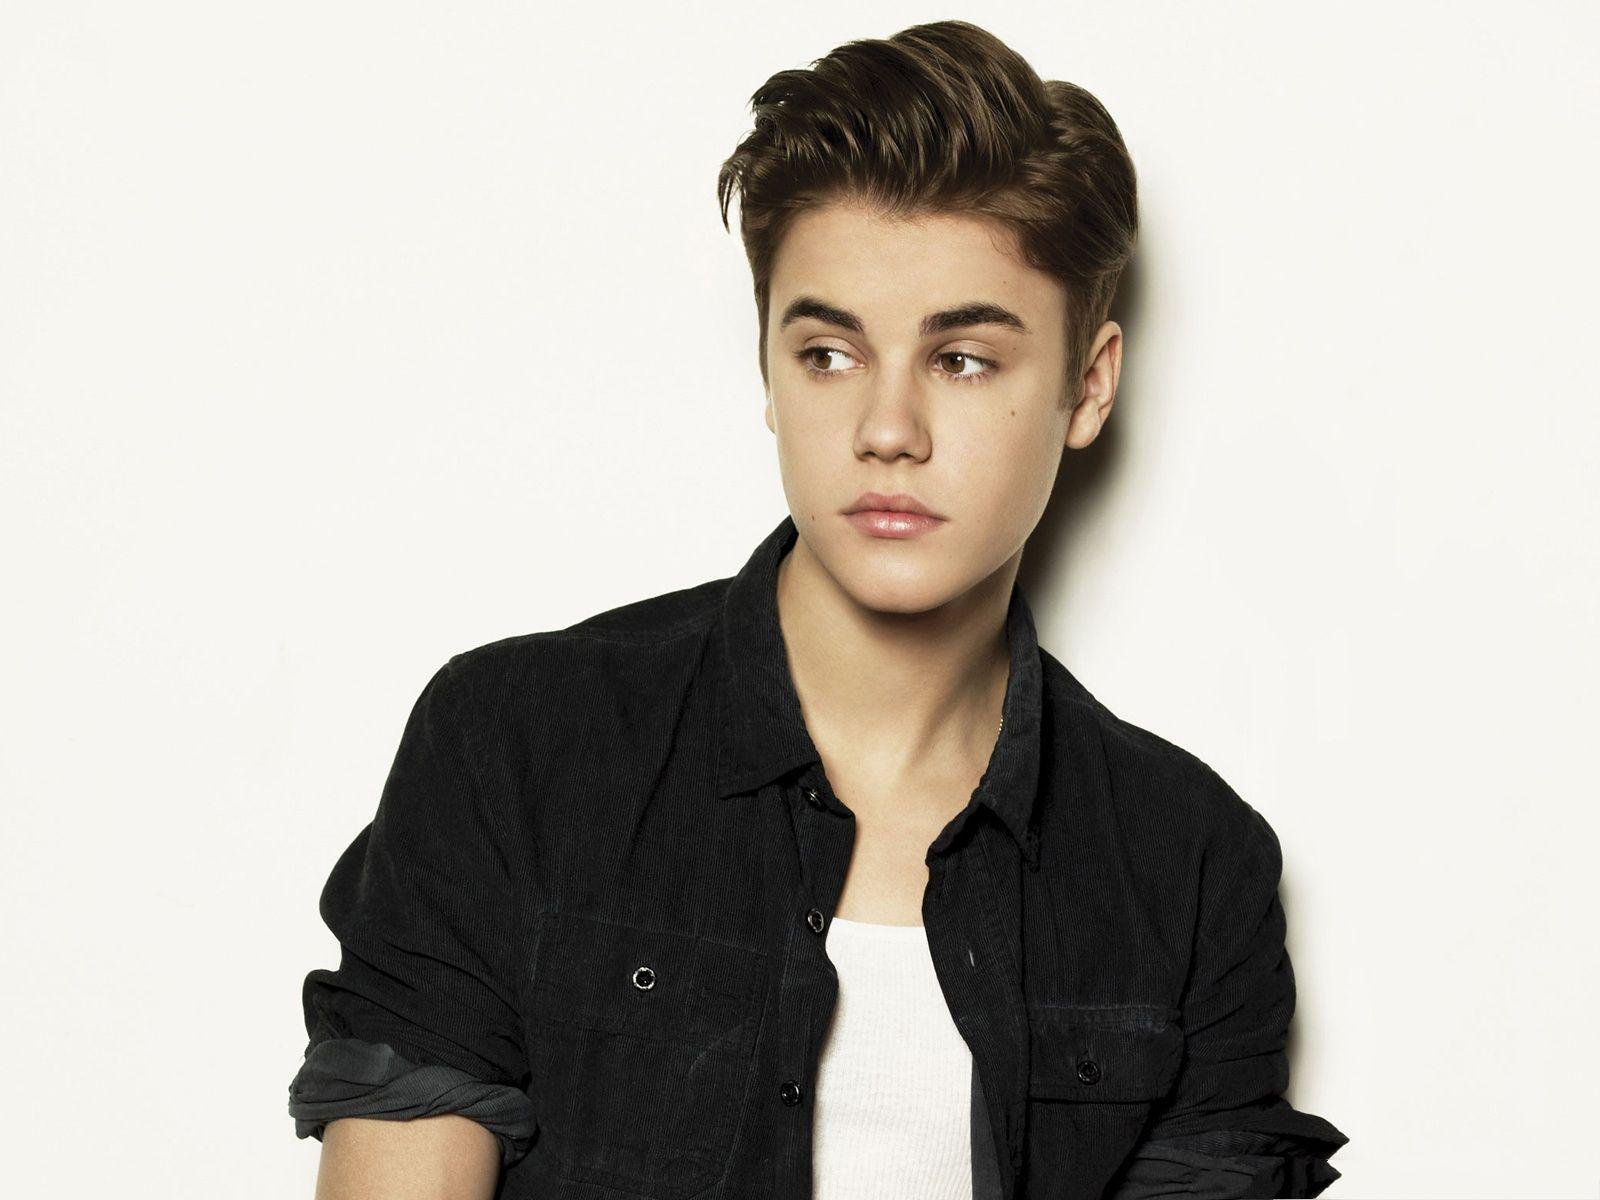noMask: (697, 41, 1201, 657)
